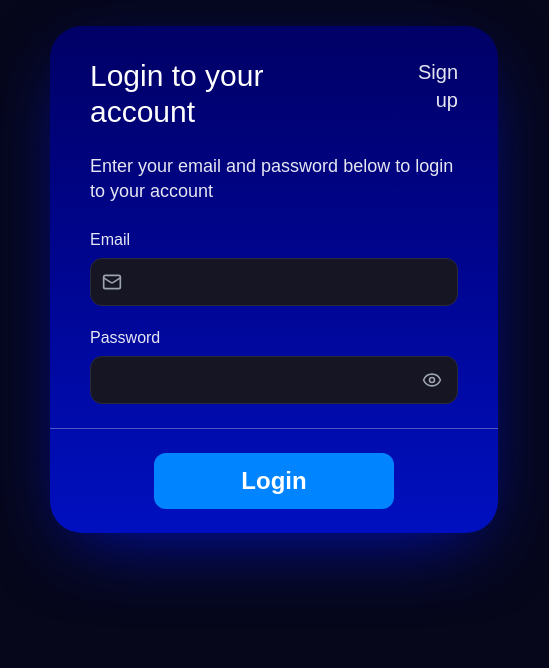
Test: authentication › shows a generic message when login fails with 401
Type "erin@test.local" into the field labelled "Email" at (274, 282), box [90,258,458,306]
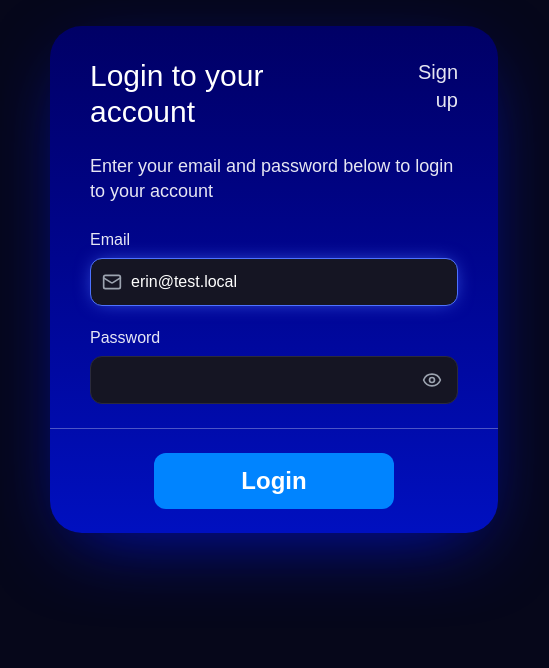
Type "wrong" into the password field labelled "Password" at (274, 380), box [90,356,458,404]
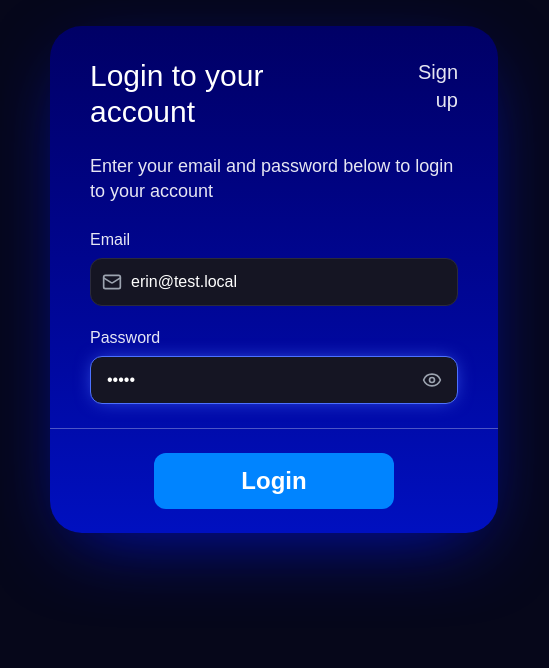
Click the button "Login" at (274, 480), box [154,452,394,508]
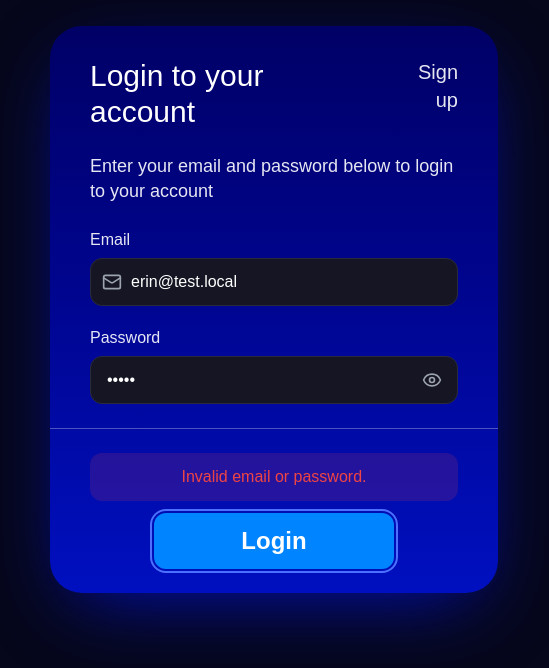
Now the message reads "Invalid email or password.", box [182,468,366,484]
